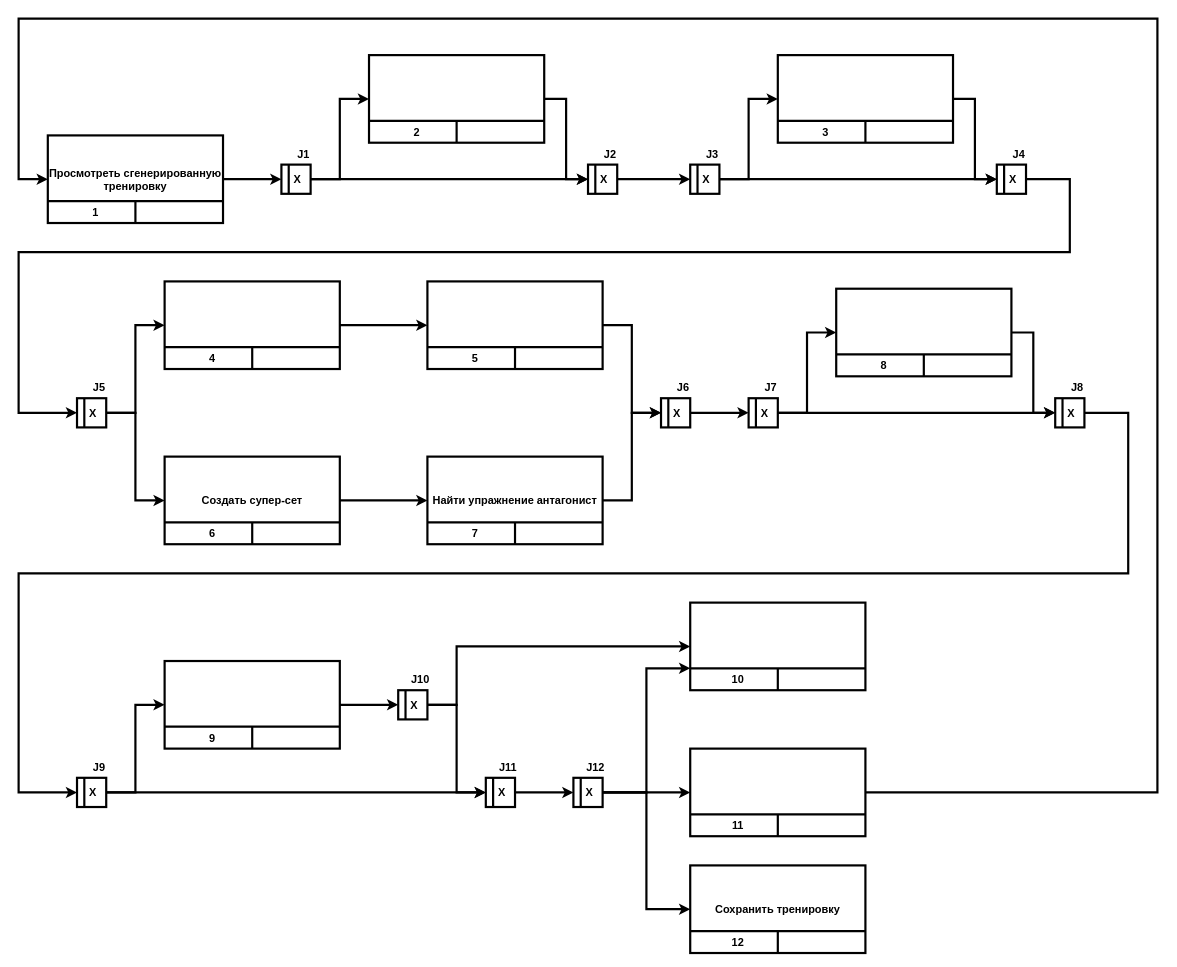
This 1177x967 diagram has some shape labels left out. Here are the shapes that lost their labels. From the top down, the box of each, then its label:
(368, 54, 545, 143): Изменить количество подходов
(776, 54, 954, 143): Изменить время отдыха между подходами
(163, 280, 341, 370): Заменить упражнение
(426, 280, 603, 370): Найти альтернативное упражнение
(835, 287, 1012, 377): Изменить порядок упражнений
(689, 601, 866, 691): Удалить тренировку
(163, 660, 341, 749): Удалить упражнение
(689, 747, 866, 837): Отменить изменения тренировки
